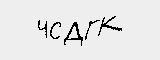Г: (83, 19, 99, 41)
Д: (62, 19, 81, 48)
К: (97, 12, 122, 39)
С: (47, 17, 64, 43)
Ч: (36, 18, 49, 41)
